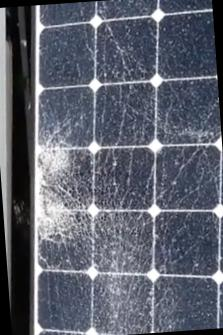Crack: (88, 188, 182, 334), (36, 180, 78, 251), (32, 122, 76, 180)
